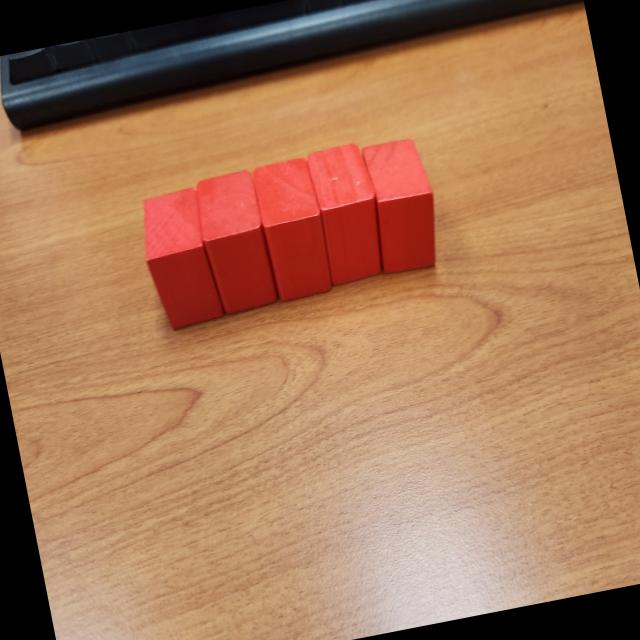red: (134, 185, 226, 332), (191, 170, 279, 318), (304, 140, 392, 288), (250, 154, 336, 304), (358, 134, 448, 277)
